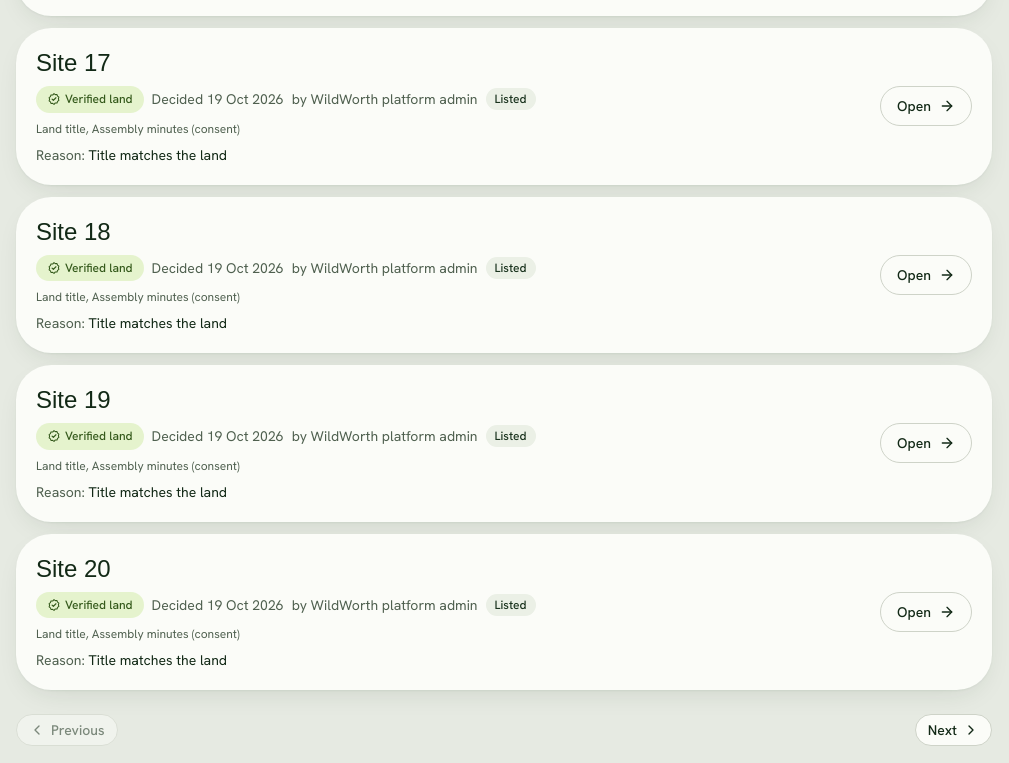
Test: ReviewQueueScreen decided views (#211) › says when a decided view is empty, and pages
(page scrolled)
Expected: the heading "Site 20" is shown, [36,554,111,582]
Click the button "Next" at (953, 730), box [915,714,992,746]
(page scrolled)
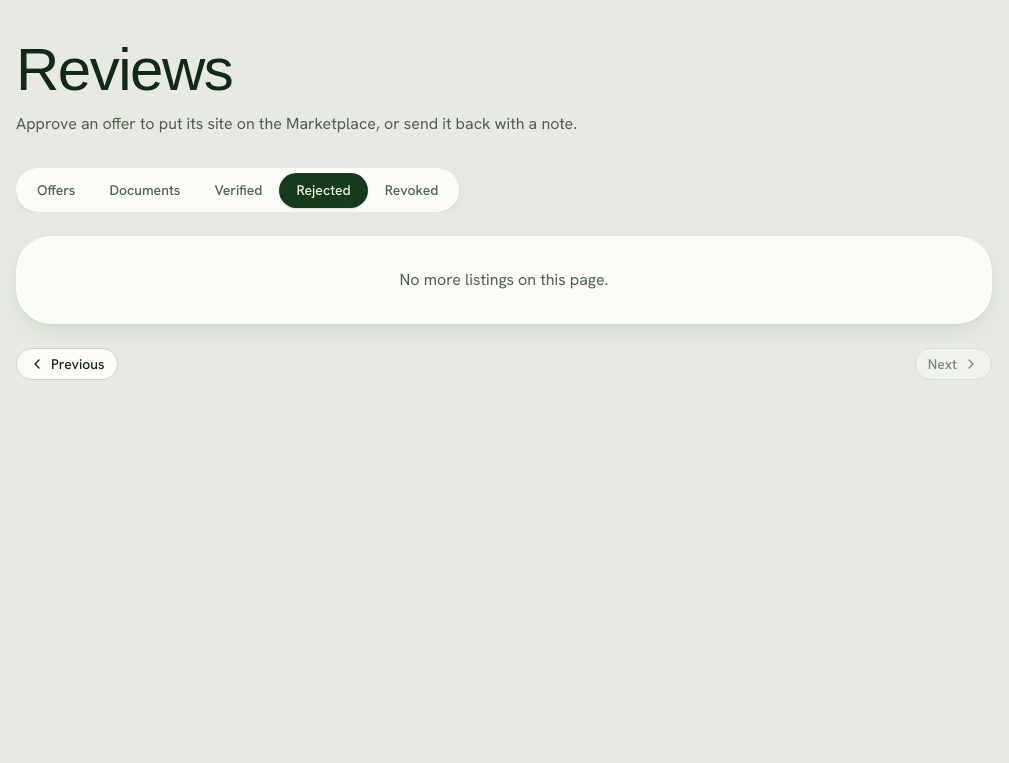
Result: the text "No more listings on this page." is shown at [16,236,992,324]
